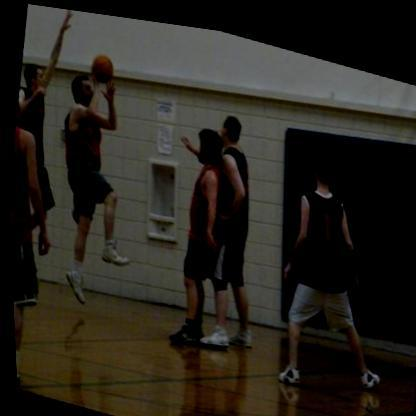basketball: (86, 48, 117, 83)
